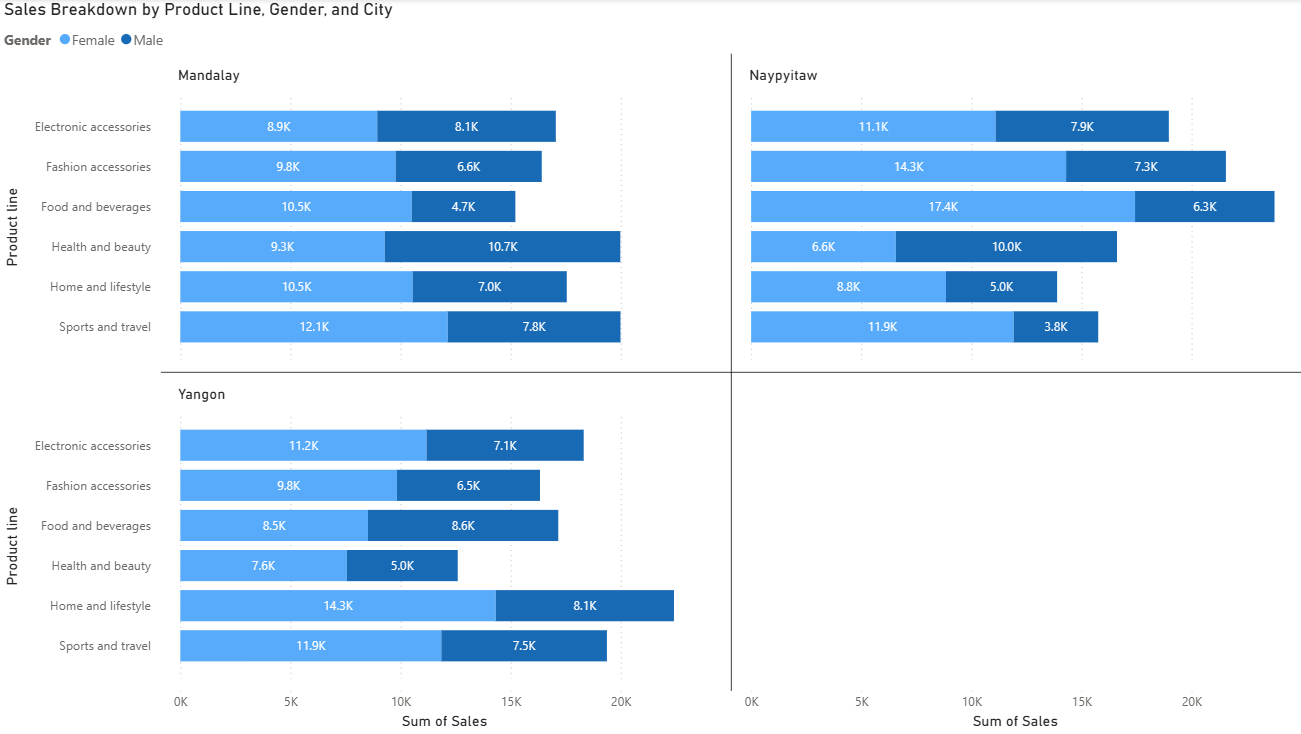

This screenshot's page, from the dashboard's own definition file:
{"tool":"powerbi","page":{"name":"Sales based on gender","canvas":[1280,720],"ordinal":2},"visuals":[{"type":"barChart","title":"Sales Breakdown by Product Line, Gender, and City","fields":{"Category":["SuperMarket Analysis.Product line"],"Y":["Sum(SuperMarket Analysis.Sales)"],"Series":["SuperMarket Analysis.Gender"],"Rows":["SuperMarket Analysis.City"]},"box":[0,0,1280.3,720.4],"z":0}]}

Visuals, with their boxes in screenshot pixels (x1, y1, x2, y2), scaled from the page's 1280x720 canvas onto the 1301x734 screenshot:
"Sales Breakdown by Product Line, Gender, and City" barChart: 0/0/1300/733
